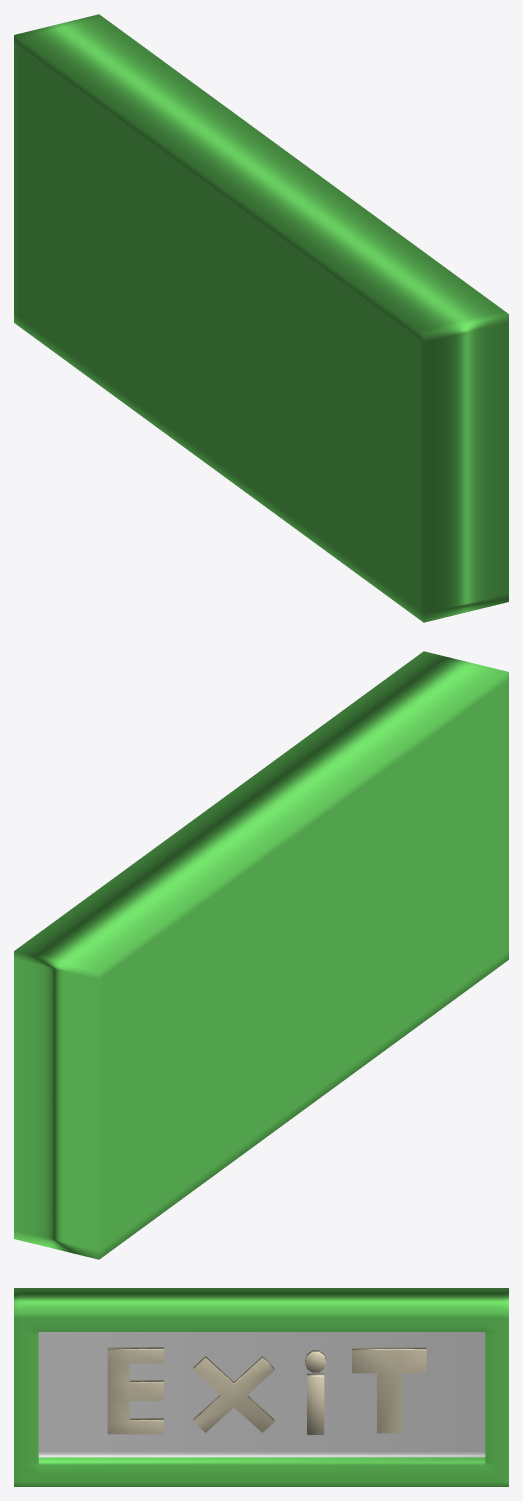
The model's file is svet.fbx.
The picture shows the model from 3 angles, top to bottom: view 1: azimuth 30°, elevation 25°; view 2: azimuth 150°, elevation 25°; view 3: azimuth 270°, elevation 25°; orthographic projection. The views are drawn at different scales.
Visible parts, largest first — view 1: Cube.001; view 2: Cube.001; view 3: Cube.001, E, T, X, i.
Part boxes in pixels (box(x1,y1,x2,y2)): Cube.001: box(14, 14, 508, 622); Cube.001: box(14, 651, 508, 1259); Cube.001: box(14, 1288, 508, 1486); E: box(107, 1347, 163, 1434); T: box(352, 1347, 426, 1433); X: box(193, 1356, 274, 1432); i: box(305, 1350, 326, 1434).
Bounding box in the file's own units: 102 × 330 × 852.
